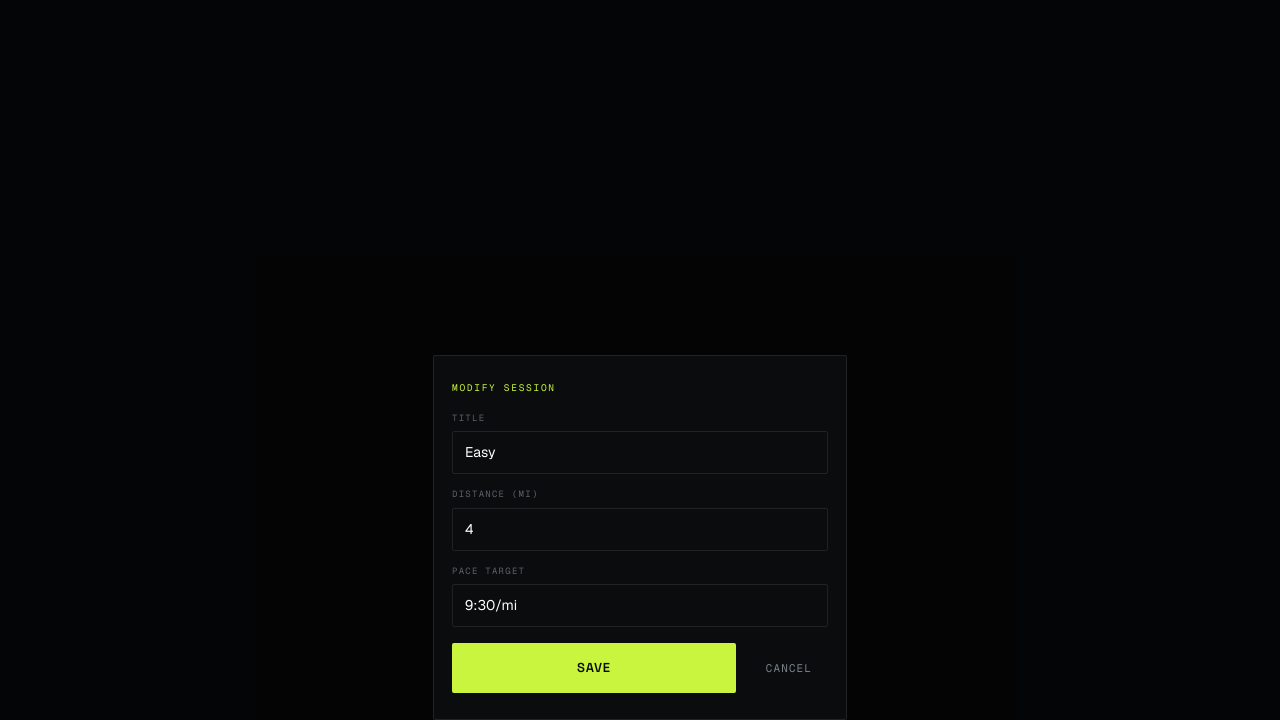
Test: non-positive distance blocks save and shows inline error
Replace the text in the field labelled "DISTANCE (MI)" with "0": (640, 529) [452,508,828,550]
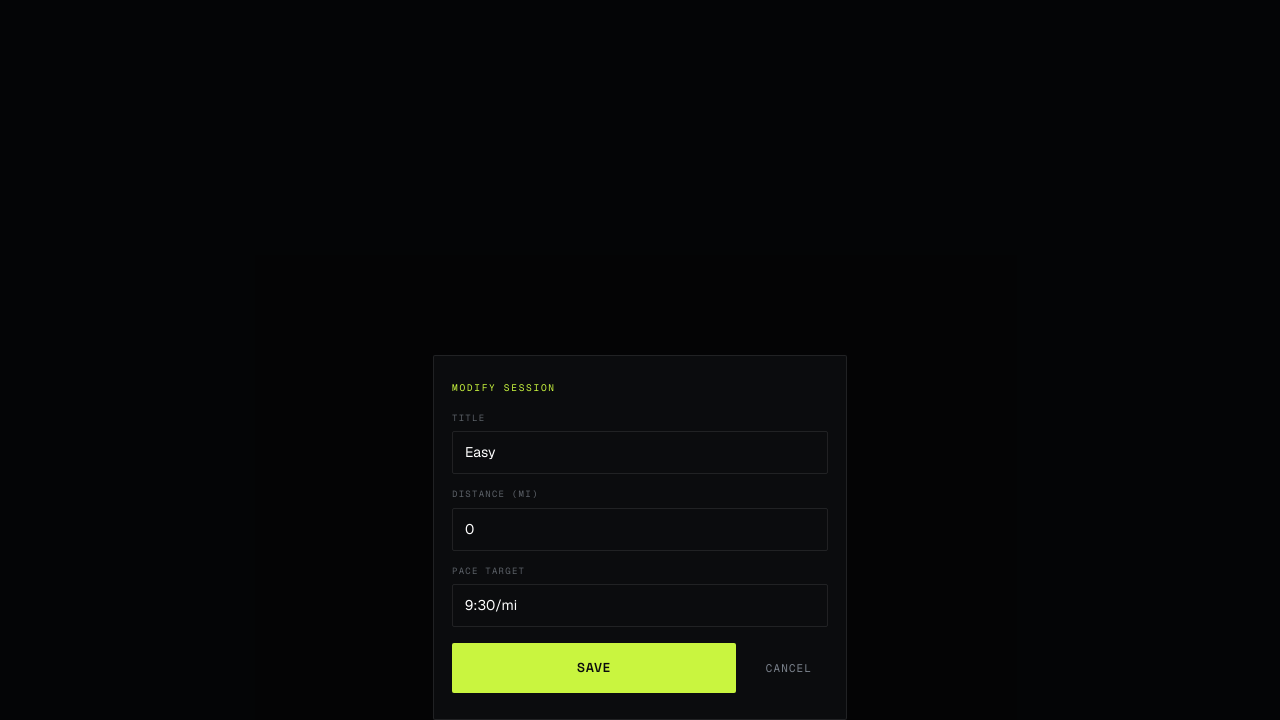
Click the button "SAVE": (594, 668) [452,643,736,693]
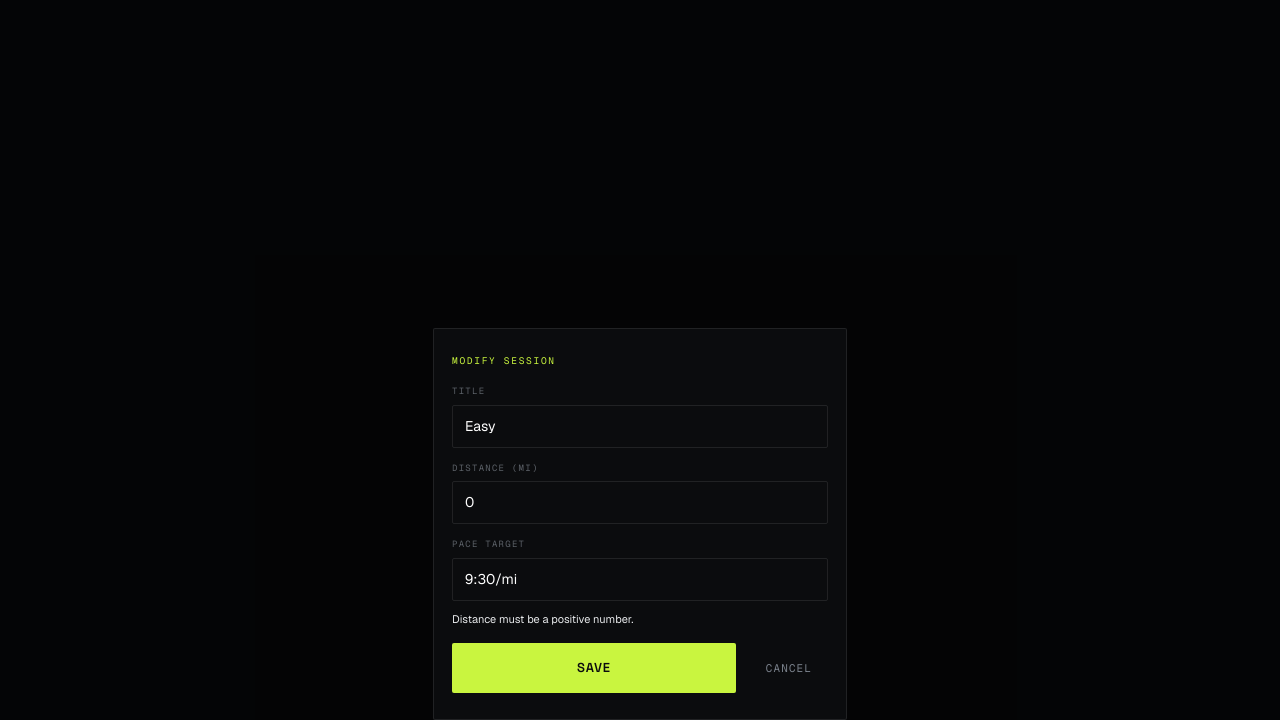
Expected: the text "Distance must be a positive number." is shown, [452,612,633,626]
